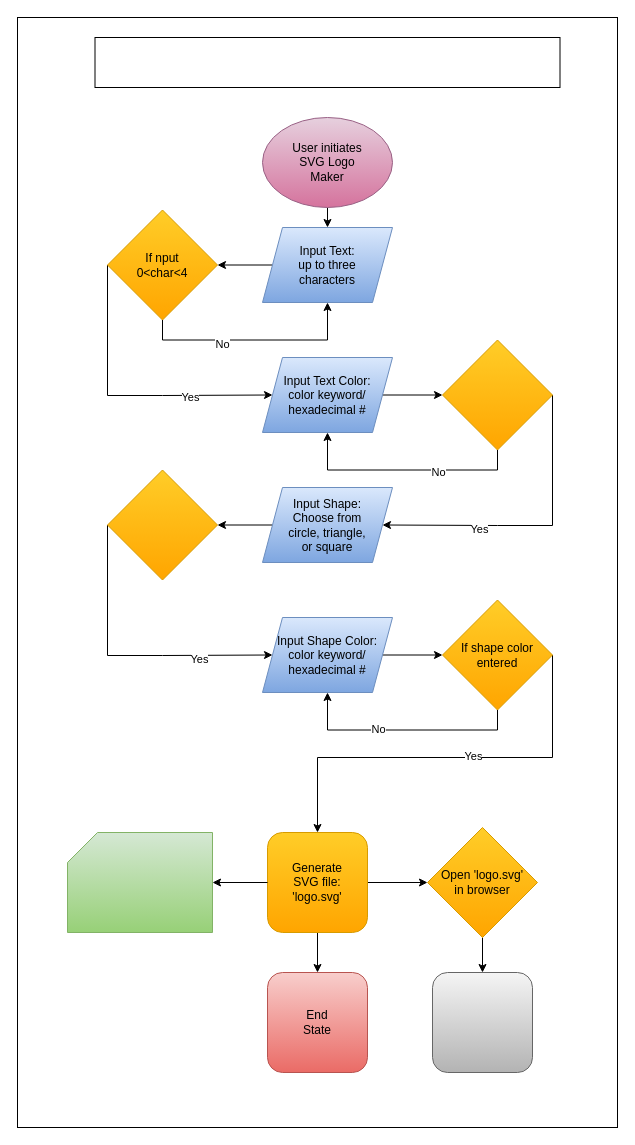
The diagram is 635 pixels wide and 1145 high, and some of its shapes have lost their labels. Here are the shapes that lost their labels. From the top down, the box of each, then its label:
(94, 36, 560, 88): SVG Logo Maker State Flow Diagram
(442, 339, 552, 450): If text color entered
(106, 469, 218, 580): If shape chosen
(66, 832, 212, 932): Output text 'Generated logo.svg' printed in command line
(432, 972, 532, 1072): Display 300 x 200 pixel matching inputs
